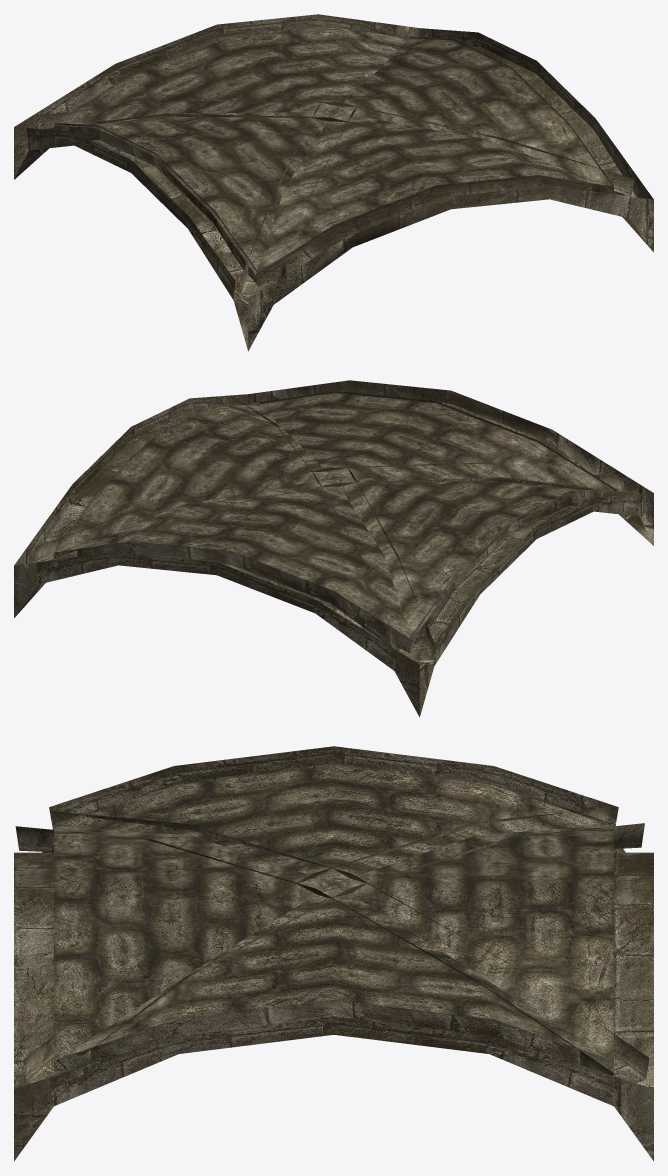
Rendered from corridor02_4way_worn.DAE.
The picture shows the model from 3 angles, top to bottom: view 1: azimuth 30°, elevation 25°; view 2: azimuth 150°, elevation 25°; view 3: azimuth 270°, elevation 25°; orthographic projection. The views are drawn at different scales.
Visible parts, largest first — view 1: polySurface170; view 2: polySurface170; view 3: polySurface170.
Boxes of the visible parts, left/top/right/bottom form: polySurface170: left=14, top=14, right=653, bottom=351; polySurface170: left=14, top=380, right=653, bottom=717; polySurface170: left=14, top=746, right=653, bottom=1161.
Size of the model in its own units: 4 by 1.01 by 4.
